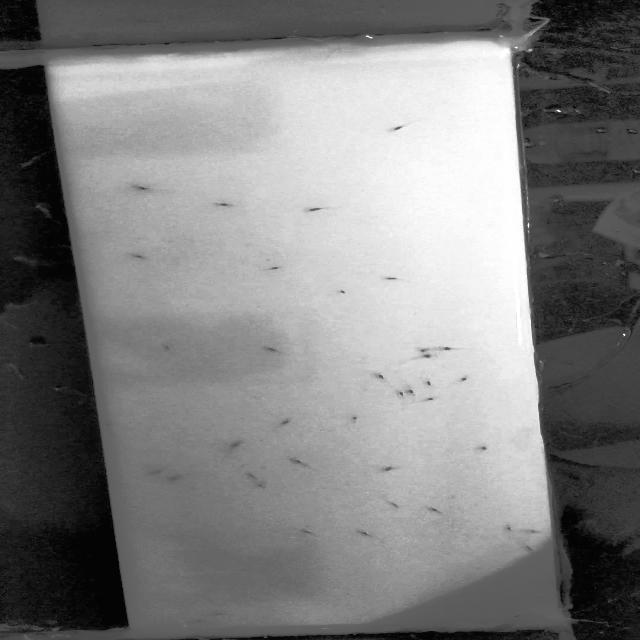shrimp: (210, 439, 245, 461), (268, 410, 299, 434), (384, 120, 426, 131), (303, 203, 340, 215), (238, 479, 278, 490), (376, 270, 411, 282), (296, 526, 330, 538), (161, 342, 192, 355), (520, 526, 550, 539), (256, 343, 286, 355), (354, 530, 386, 541), (184, 617, 219, 627), (422, 502, 451, 514), (289, 456, 316, 468), (126, 182, 162, 191), (379, 462, 404, 474), (346, 416, 371, 428), (386, 390, 406, 403), (206, 199, 238, 207), (418, 378, 441, 389), (97, 417, 119, 428), (516, 542, 540, 552), (418, 394, 438, 406), (246, 468, 263, 482), (125, 250, 146, 261), (410, 347, 436, 355), (440, 346, 480, 351), (455, 376, 477, 385), (402, 388, 416, 402), (503, 520, 519, 532), (165, 474, 186, 482), (210, 610, 230, 618), (506, 612, 526, 620), (336, 288, 356, 296), (148, 471, 170, 478), (266, 265, 285, 273), (412, 353, 433, 360), (475, 441, 489, 451), (372, 373, 392, 380), (382, 502, 405, 508)
